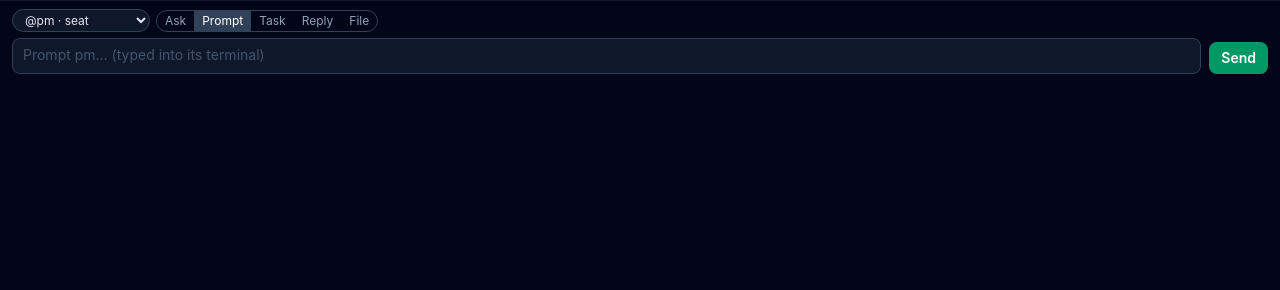
it: Composer › autocomplete: @ lists agents, Tab accepts; Enter accepts instead of sending while the list is open
Type "@gr" into the text box named "Message".
click(607, 56); type("@gr")  # box [12,38,1201,74]
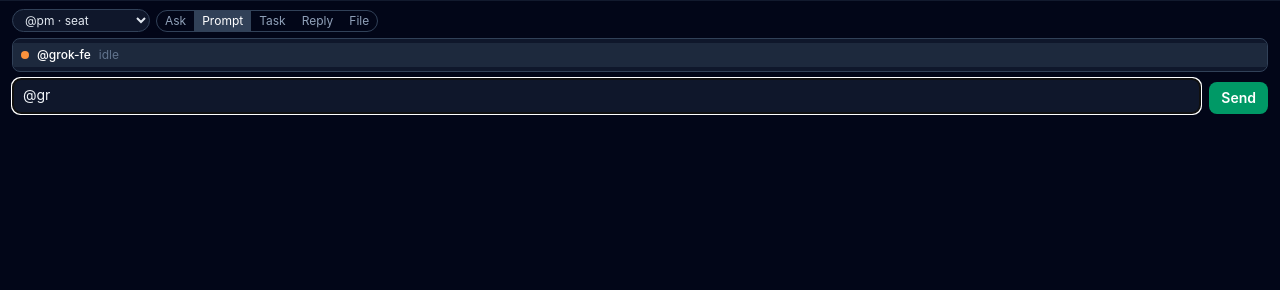
Press Tab
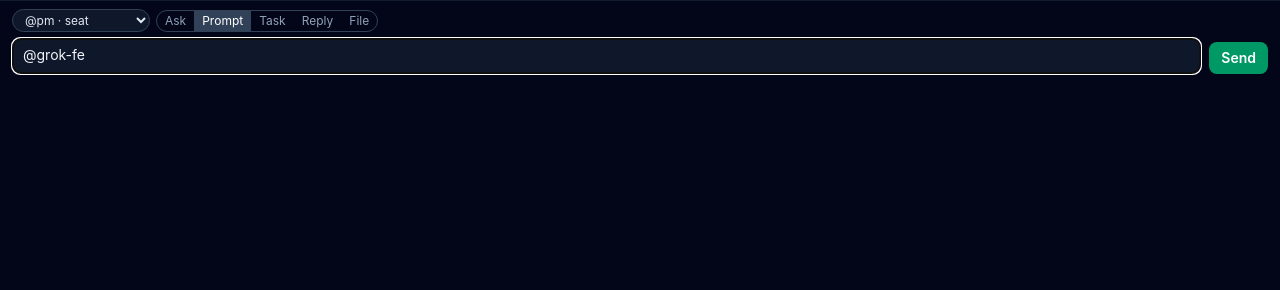
Expected: the text box named "Message" holds "@grok-fe "
Expected: the list is gone
Type "hi #" into the text box named "Message".
click(607, 56); type("hi #")  # box [12,38,1201,74]
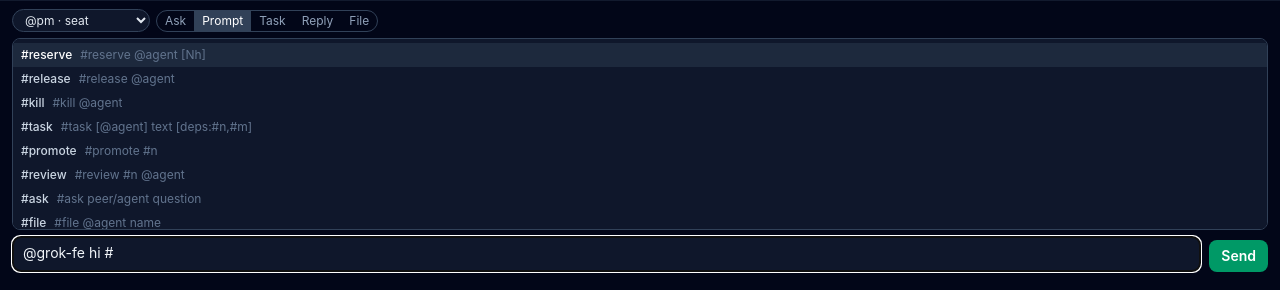
Expected: the option "#reserve #reserve @agent [Nh]" is shown, [13,43,1267,67]
Press Arrowdown Enter
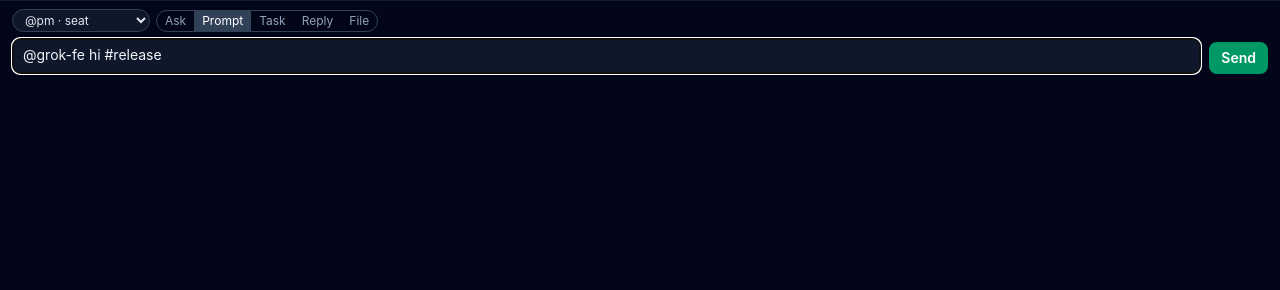
Expected: the text box named "Message" holds "@grok-fe hi #release "
Type "@pi" into the text box named "Message".
click(607, 56); type("@pi")  # box [12,38,1201,74]
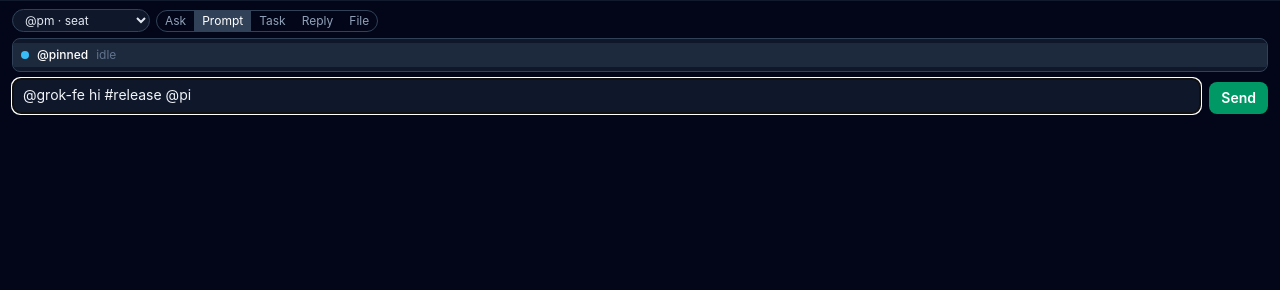
Press Escape
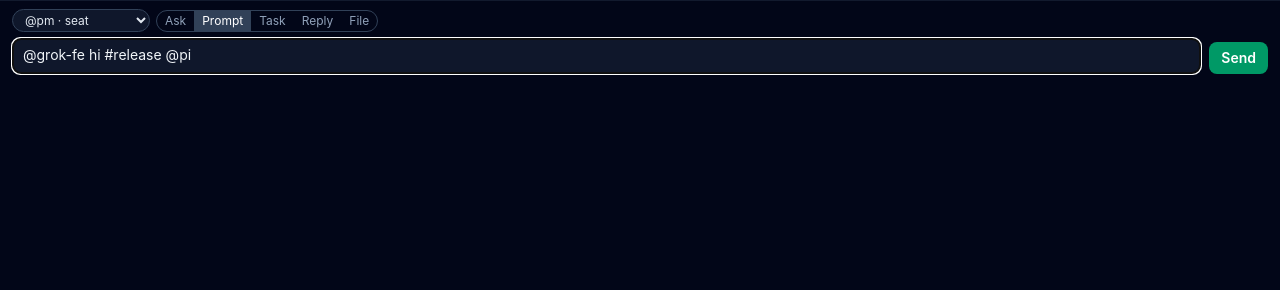
Expected: the list is gone
